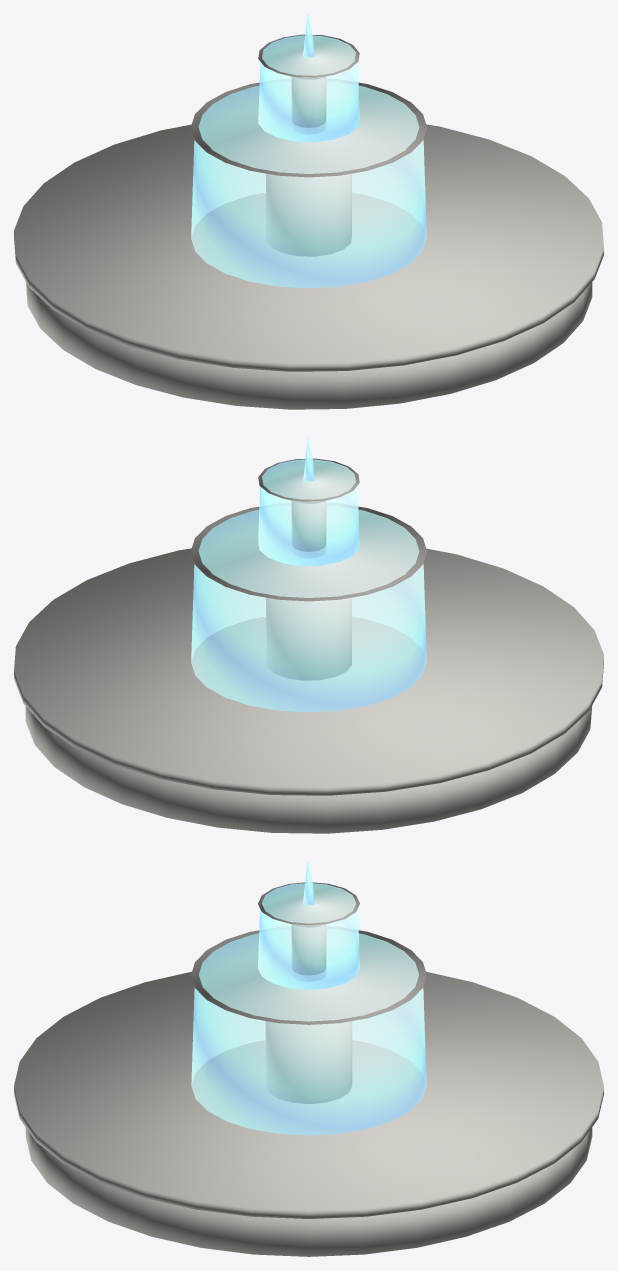
The model's file is fountain.glb.
3 views of the same model, one above another, from view 1: azimuth 30°, elevation 25°; view 2: azimuth 150°, elevation 25°; view 3: azimuth 270°, elevation 25° (orthographic).
Visible parts, largest first — view 1: fountain; view 2: fountain; view 3: fountain.
Boxes of the visible parts, <box> form: fountain: <box>14,14,603,409</box>; fountain: <box>14,438,603,833</box>; fountain: <box>14,862,603,1256</box>.
Bounding box in the file's own units: 7.5 × 3.85 × 7.5.
